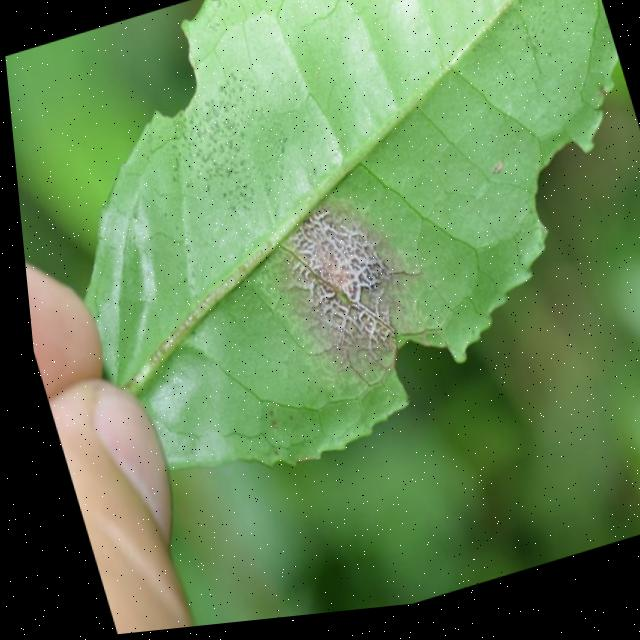Tea exobasidium blight: (251, 178, 427, 390)
